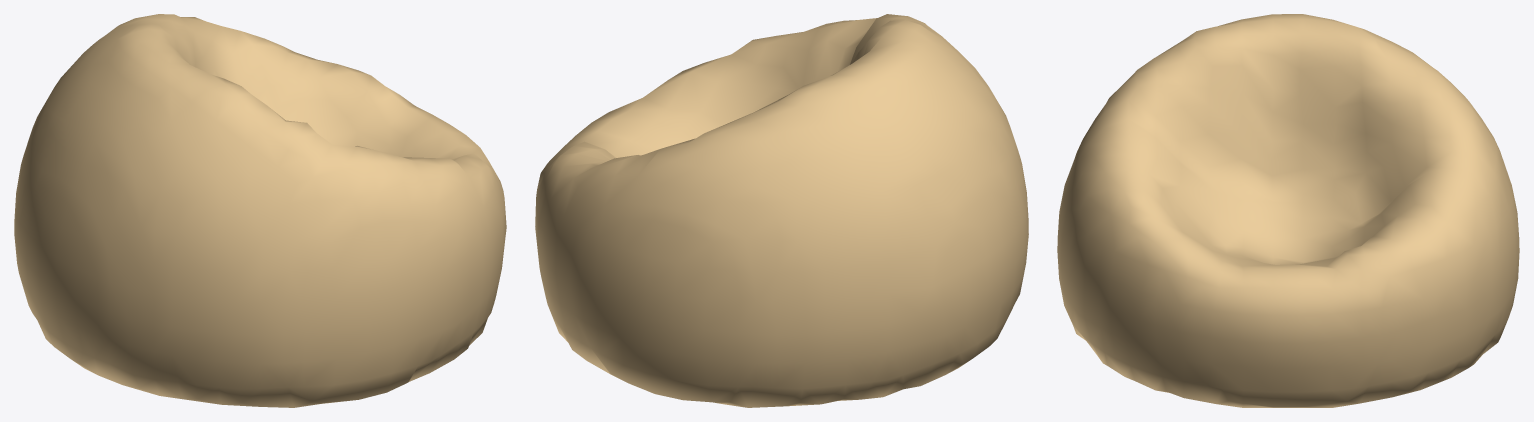
Rendered from bean_bag_chair.fbx.
3 views of the same model, side by side, from view 1: azimuth 30°, elevation 25°; view 2: azimuth 150°, elevation 25°; view 3: azimuth 270°, elevation 25° (orthographic). The views are drawn at different scales.
Visible parts, largest first — view 1: Icosphere.004; view 2: Icosphere.004; view 3: Icosphere.004.
Boxes of the visible parts, <box> form: Icosphere.004: <box>14,14,506,407</box>; Icosphere.004: <box>535,14,1028,407</box>; Icosphere.004: <box>1057,14,1519,407</box>.
Size of the model in its own units: 292 by 186 by 295.
